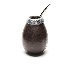guampa: (20, 2, 49, 57)
